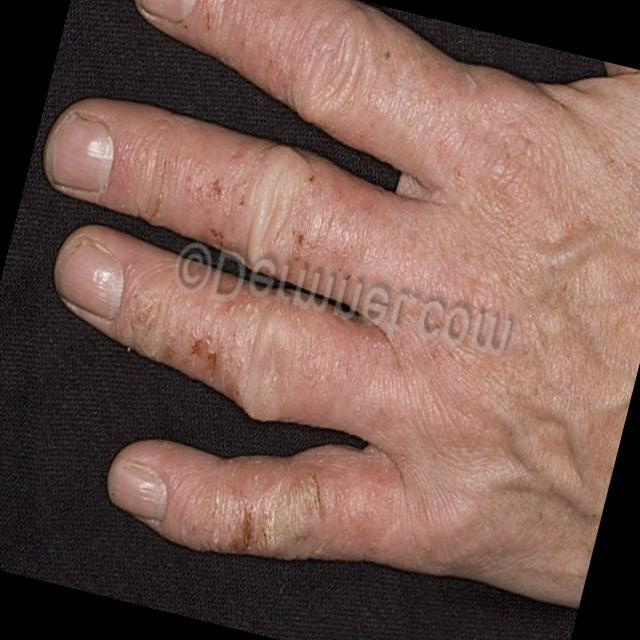Eczema: (183, 149, 334, 267), (148, 331, 256, 421), (224, 492, 326, 566)
